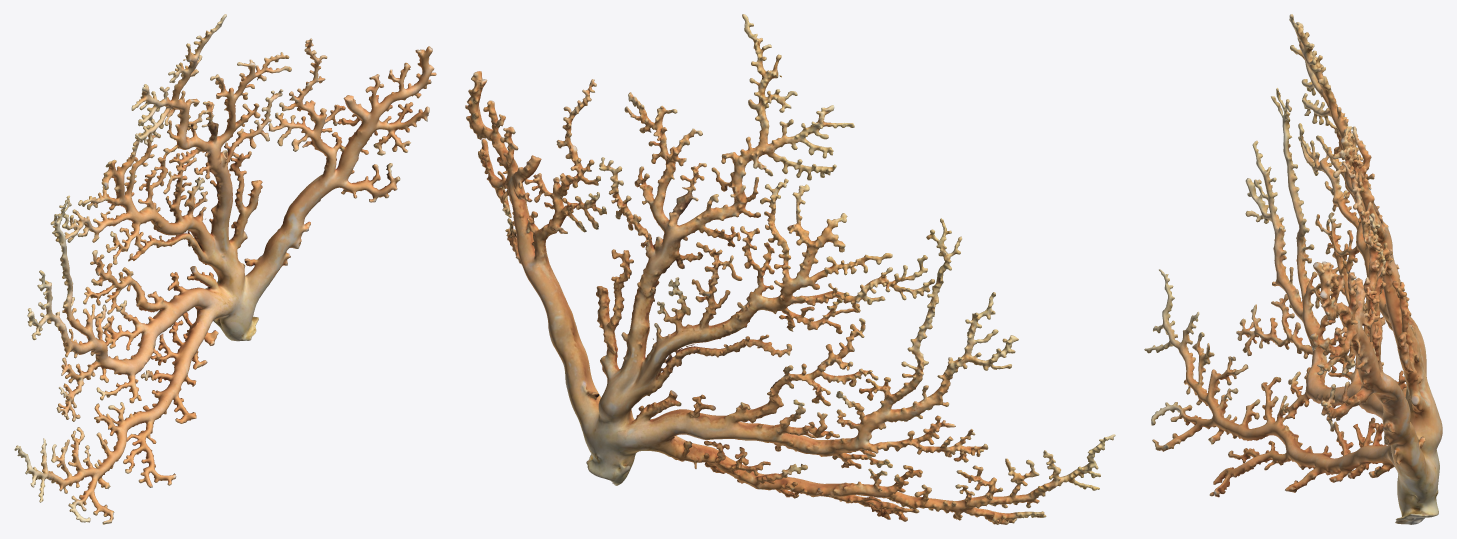
Rendered from low_poly_red_coral.glb.
The picture shows the model from 3 angles, left to right: view 1: azimuth 30°, elevation 25°; view 2: azimuth 150°, elevation 25°; view 3: azimuth 270°, elevation 25°; orthographic projection. The views are drawn at different scales.
Parts seen in each view (by area): view 1: Object_4, Object_5; view 2: Object_4, Object_5; view 3: Object_4, Object_5.
Boxes of the visible parts, x1,y1,x2,y2 form: Object_4: (14, 14, 436, 524); Object_5: (27, 118, 215, 373); Object_4: (465, 14, 1115, 524); Object_5: (652, 178, 1018, 477); Object_4: (1144, 14, 1442, 524); Object_5: (1245, 121, 1406, 456).
Bounding box in the file's own units: 0.4182 × 0.3523 × 0.177.
Materials: 1 (1 with a texture image).
